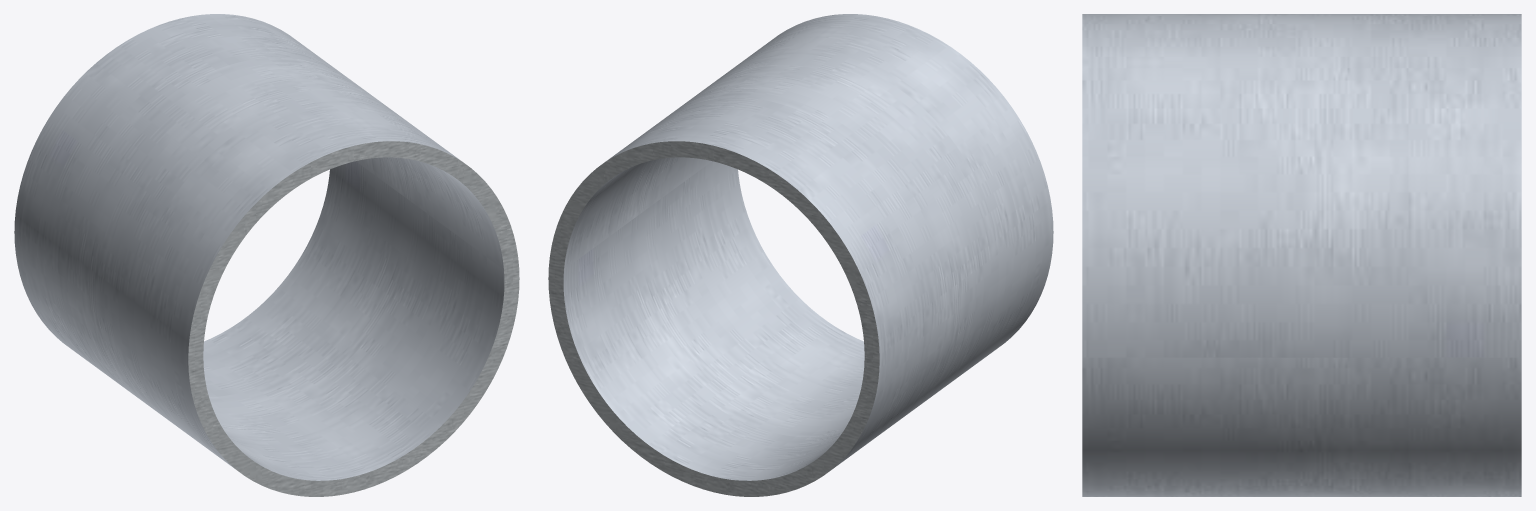
The picture shows the model from 3 angles, left to right: view 1: azimuth 30°, elevation 25°; view 2: azimuth 150°, elevation 25°; view 3: azimuth 270°, elevation 25°; orthographic projection. The views are drawn at different scales.
Visible parts, largest first — view 1: root; view 2: root; view 3: root.
Boxes of the visible parts, x1=… form: root: x1=14, y1=14, x2=519, y2=496; root: x1=548, y1=14, x2=1053, y2=496; root: x1=1082, y1=14, x2=1521, y2=496.
Bounding box in the file's own units: 1.1 × 1.1 × 1.
2 materials, 2 textured.
